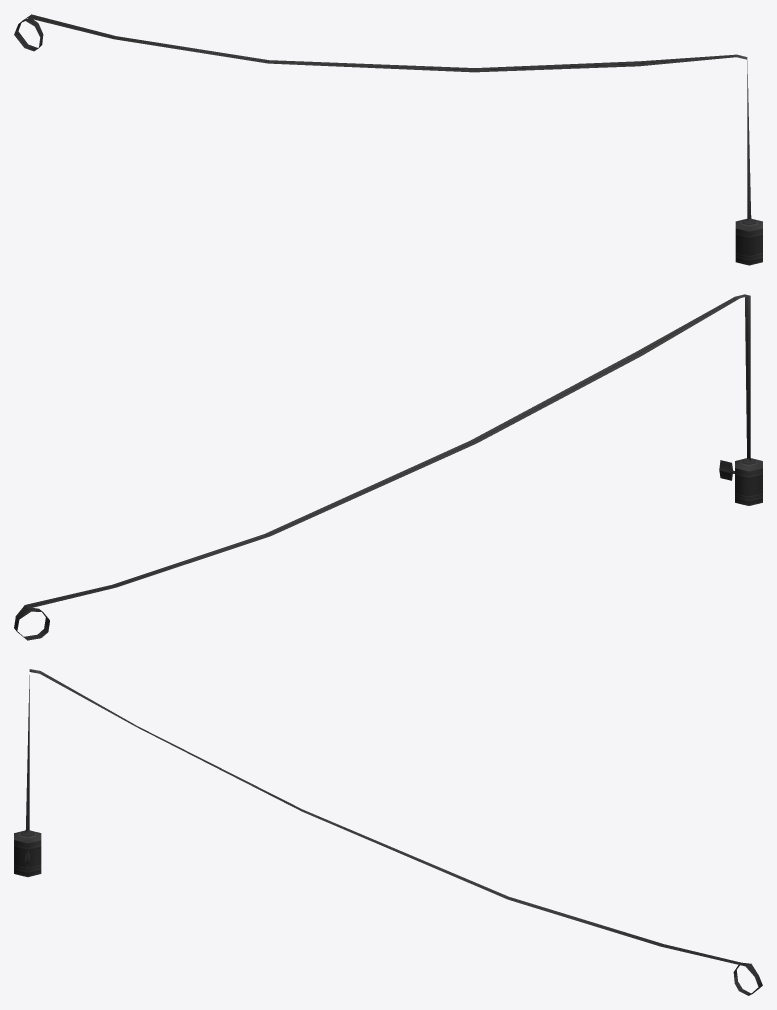
Rendered from jsf_2P_Light_s03_b.fbx.
The picture shows the model from 3 angles, top to bottom: view 1: azimuth 90°, elevation 25°; view 2: azimuth 150°, elevation 25°; view 3: azimuth 270°, elevation 25°; orthographic projection. The views are drawn at different scales.
Parts seen in each view (by area): view 1: jsf_2P_Light_s03_b; view 2: jsf_2P_Light_s03_b; view 3: jsf_2P_Light_s03_b.
Part boxes in pixels (bbox=[...]): jsf_2P_Light_s03_b: bbox=[14, 14, 762, 265]; jsf_2P_Light_s03_b: bbox=[14, 294, 762, 640]; jsf_2P_Light_s03_b: bbox=[14, 669, 762, 995].
Size of the model in its own units: 44.08 by 23.05 by 77.98.
